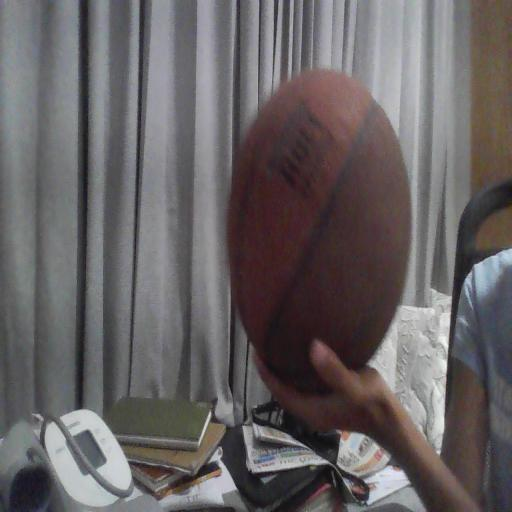basketball: (228, 70, 410, 390)
